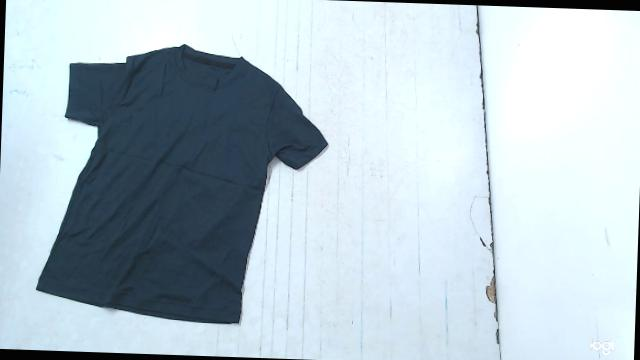new-garment: (37, 45, 327, 323)
